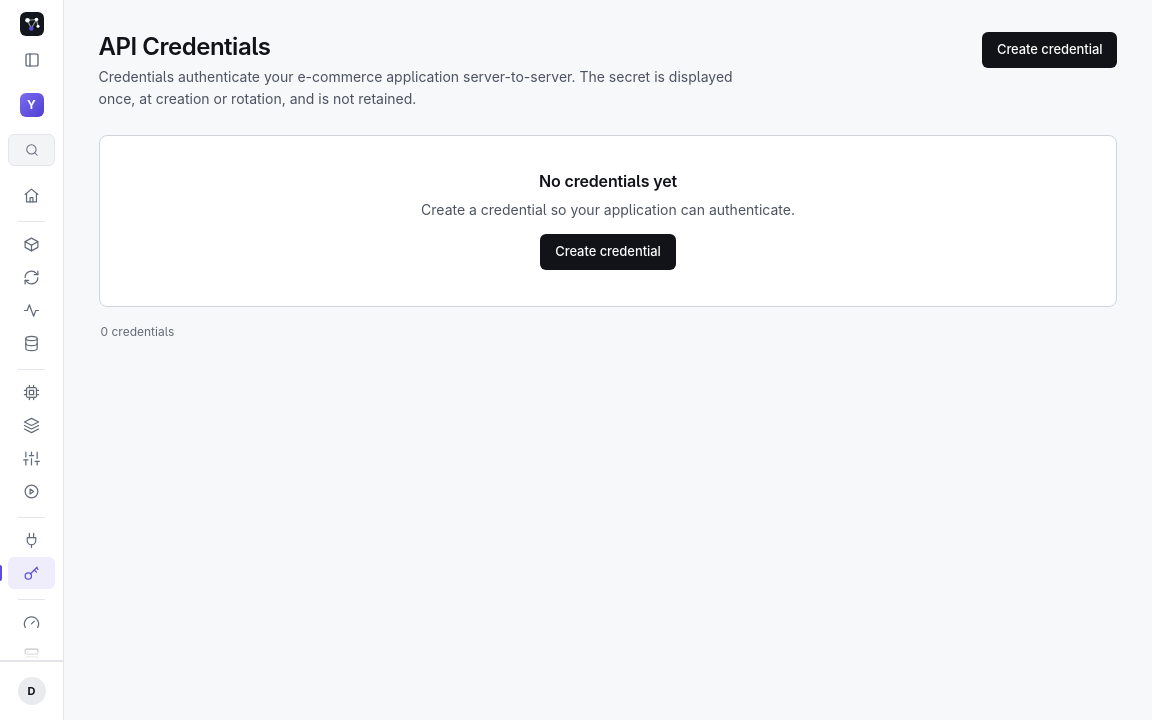
Test: authorization gates › D13: after an explicit sign-out the next user lands on Overview, not the previous user's page
The image size is (1152, 720).
Step 1. Click the button named "Account menu" → (32, 691), box x1=8 y1=670 x2=55 y2=712
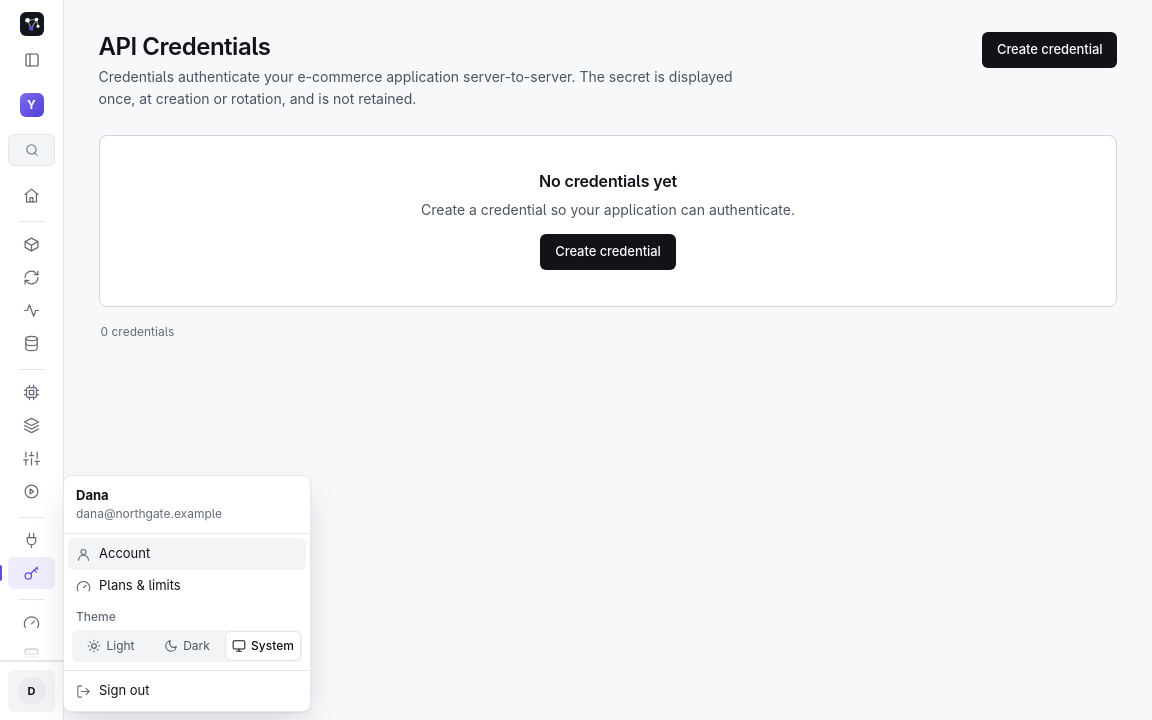
Step 2. Click the menu item "Sign out" → (187, 691), box x1=68 y1=675 x2=306 y2=707
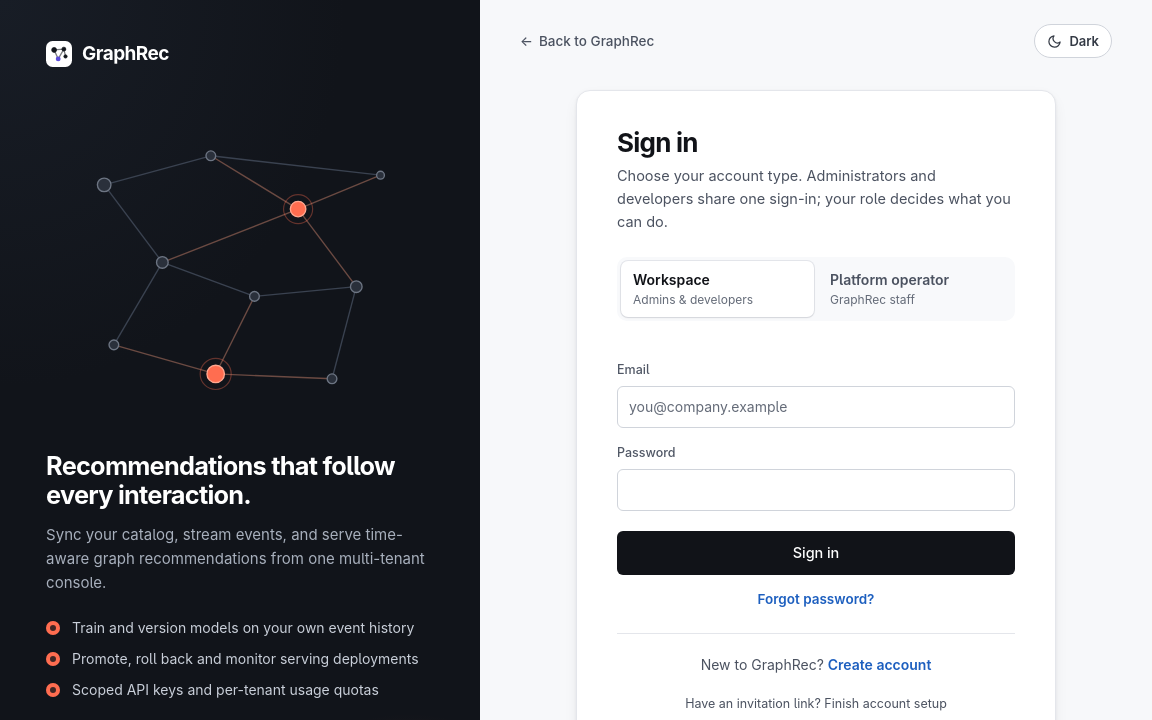
Step 3. Type "ruben@northgate.example" into the field labelled "Email" → (816, 407), box x1=617 y1=386 x2=1015 y2=428
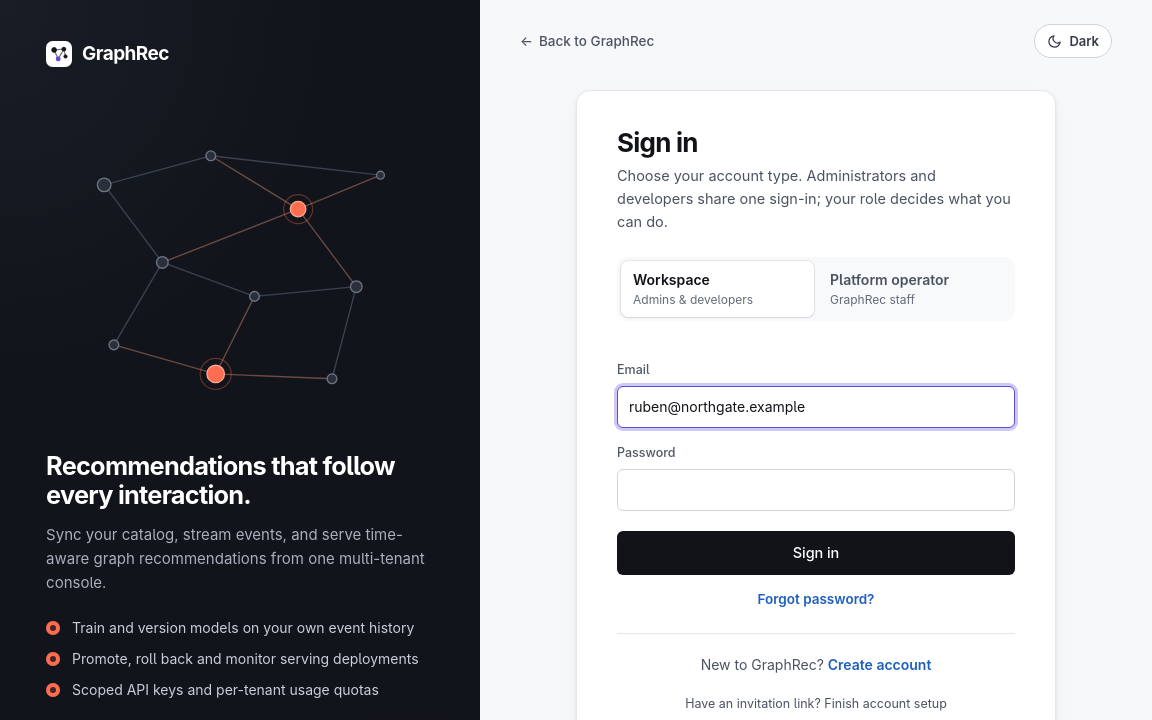
Step 4. Type "pw" into the password field labelled "Password" → (816, 490), box x1=617 y1=469 x2=1015 y2=511
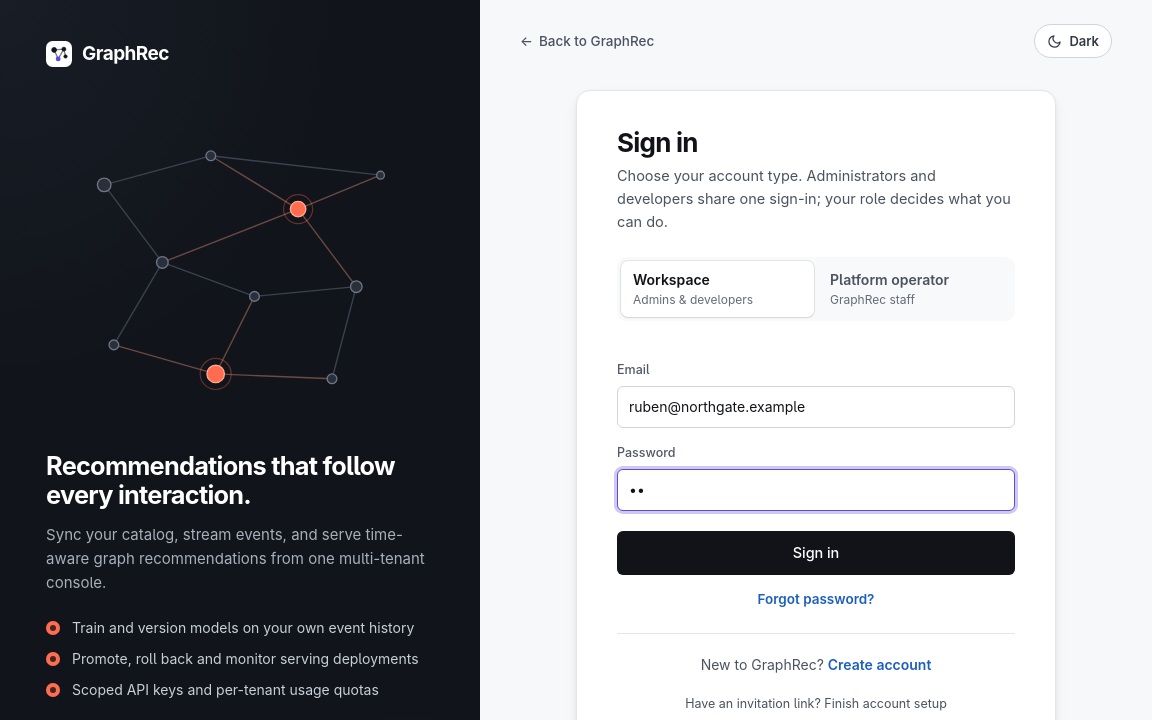
Step 5. Click the button "Sign in" → (816, 553), box x1=617 y1=531 x2=1015 y2=575
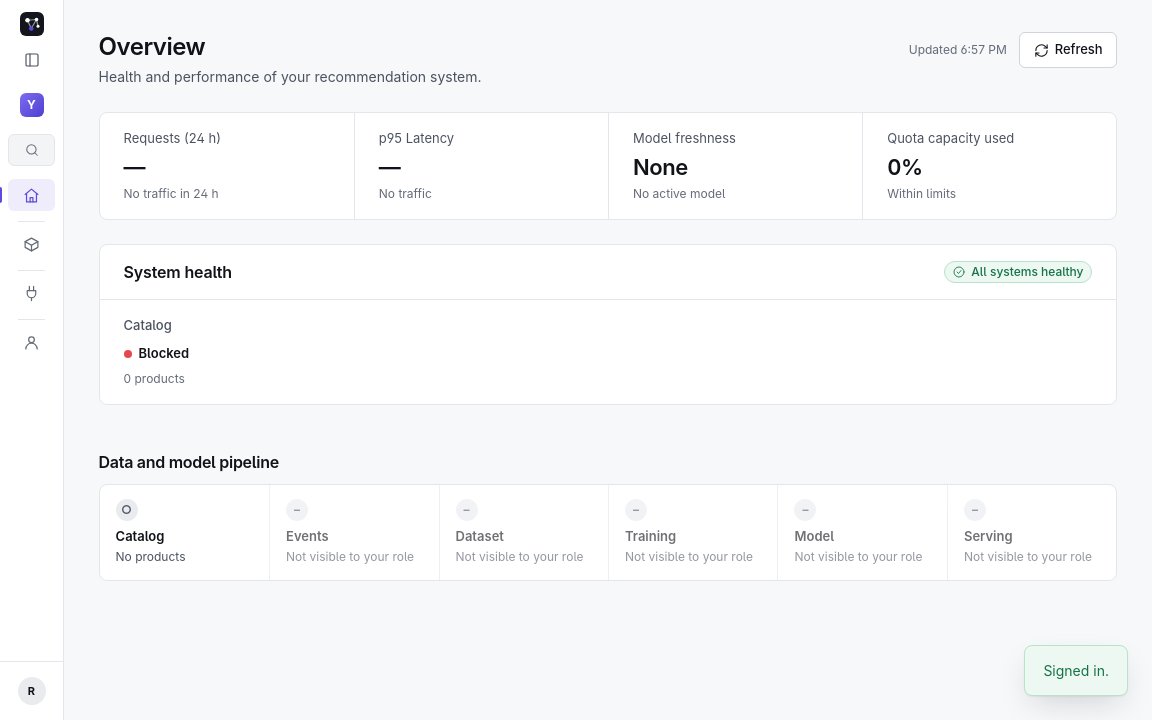
Now the heading "Overview" is shown, box x1=98 y1=32 x2=205 y2=62
